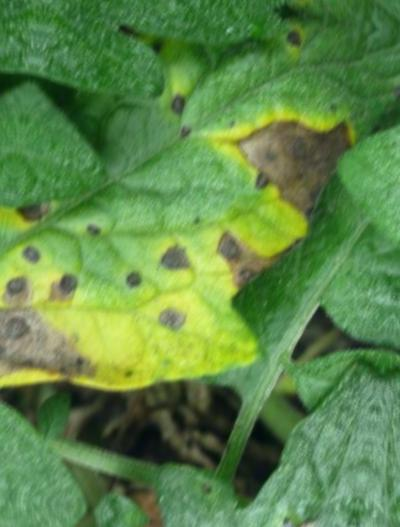Tomato Early blight leaf: (0, 0, 400, 470)
